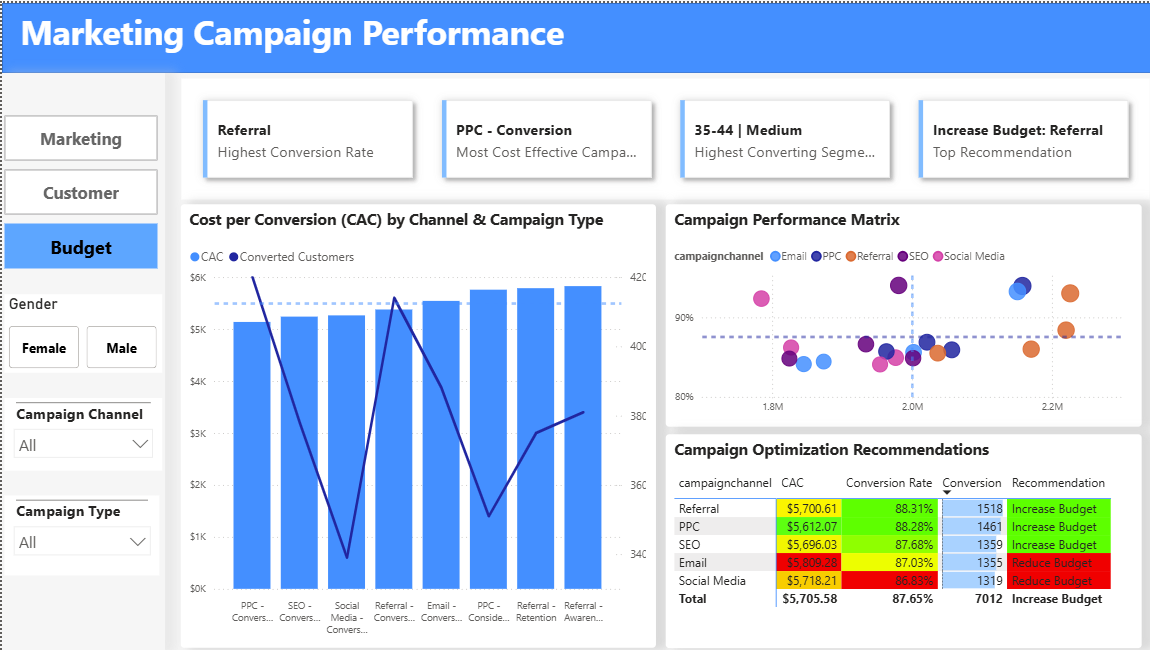

This screenshot's page, from the dashboard's own definition file:
{"tool":"powerbi","page":{"name":"Budget","canvas":[1280,720],"ordinal":2},"visuals":[{"type":"shape","box":[0,0,1280.3,77.9],"z":0},{"type":"textbox","box":[15.3,1.3,1250.9,77.9],"z":1000},{"type":"shape","box":[0,77.8,180.6,641.7],"z":2000},{"type":"cardVisual","fields":{"Data":["marketing_data.Best Channel","marketing_data.Lowest CAC","marketing_data.Highest Converting Segment","marketing_data.Top Recommendation"]},"box":[194.4,79.2,1086.1,144.4],"z":3000},{"type":"slicer","fields":{"Values":["marketing_data.campaignchannel"]},"box":[2.8,438.9,175,80.6],"z":4000},{"type":"slicer","fields":{"Values":["marketing_data.campaigntype"]},"box":[2.8,547.2,172.2,88.9],"z":5000},{"type":"advancedSlicerVisual","fields":{"Values":["marketing_data.gender"]},"box":[2.8,323.6,175,87.5],"z":6000},{"type":"pageNavigator","box":[2.8,125,170.8,170.8],"z":7000},{"type":"lineClusteredColumnComboChart","title":"Cost per Conversion (CAC) by Channel & Campaign Type","fields":{"Y":["marketing_data.M_CPA"],"Category":["marketing_data.Campaign Combination"],"Y2":["marketing_data.M_conversion"]},"box":[198.6,223.6,527.8,493.1],"z":8000},{"type":"scatterChart","title":"Campaign Performance Matrix","fields":{"X":["Sum(marketing_data.adspend)"],"Y":["marketing_data.M_ConversionRate"],"Size":["marketing_data.M_conversion"],"Series":["marketing_data.campaignchannel"],"Category":["marketing_data.campaigntype"]},"box":[737.5,223.6,529.2,247.2],"z":12000},{"type":"pivotTable","title":"Campaign Optimization Recommendations","fields":{"Rows":["marketing_data.campaignchannel"],"Values":["marketing_data.M_CPA","marketing_data.M_ConversionRate","marketing_data.M_conversion","Behavior.Recommendation"]},"box":[737.5,479.2,529.2,237.5],"z":12001}]}

Visuals, with their boxes in screenshot pixels (x1, y1, x2, y2), scaled from the page's 1280x720 canvas onto the 1150x650 screenshot:
shape: 0:0:1149:70
textbox: 14:1:1138:72
shape: 0:70:162:649
cardVisual - marketing_data.Best Channel x marketing_data.Lowest CAC: 175:72:1149:202
slicer - marketing_data.campaignchannel: 3:396:160:469
slicer - marketing_data.campaigntype: 3:494:157:574
advancedSlicerVisual - marketing_data.gender: 3:292:160:371
pageNavigator: 3:113:156:267
"Cost per Conversion (CAC) by Channel & Campaign Type" lineClusteredColumnComboChart: 178:202:653:647
"Campaign Performance Matrix" scatterChart: 663:202:1138:425
"Campaign Optimization Recommendations" pivotTable: 663:433:1138:647
